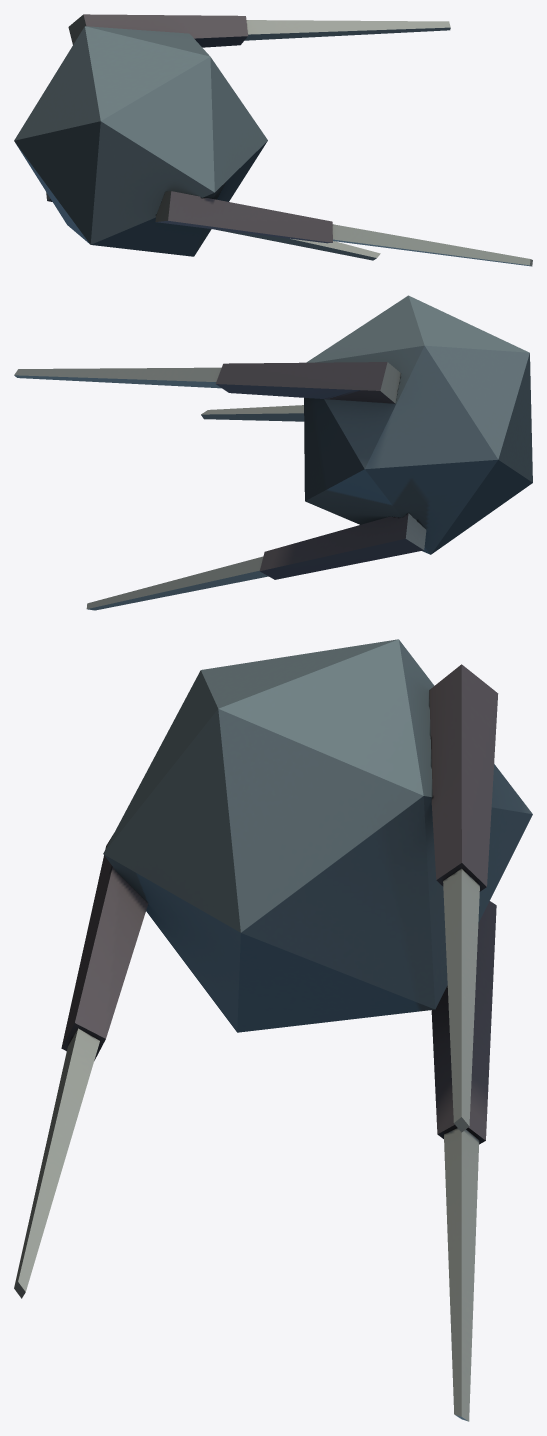
Rendered from PUSHILIN_satellite.obj.
3 views of the same model, one above another, from view 1: azimuth 30°, elevation 25°; view 2: azimuth 150°, elevation 25°; view 3: azimuth 270°, elevation 25° (orthographic). The views are drawn at different scales.
Parts seen in each view (by area): view 1: satellite; view 2: satellite; view 3: satellite.
Boxes of the visible parts, x1,y1,x2,y2 form: satellite: (14, 14, 532, 266); satellite: (14, 295, 532, 610); satellite: (14, 639, 532, 1421).
Size of the model in its own units: 1.89 by 1.28 by 1.13.
1 material, 1 textured.
